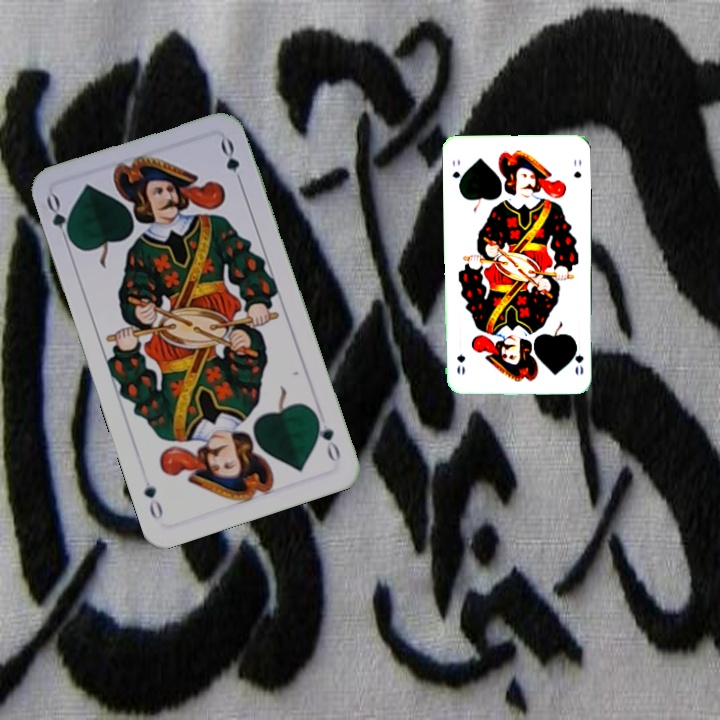GO: (42, 191, 77, 249), (311, 409, 343, 464), (569, 337, 586, 378), (448, 155, 465, 191)
